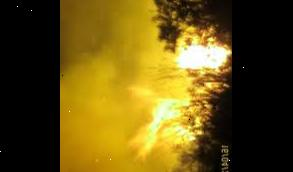fire: (124, 82, 208, 160)
